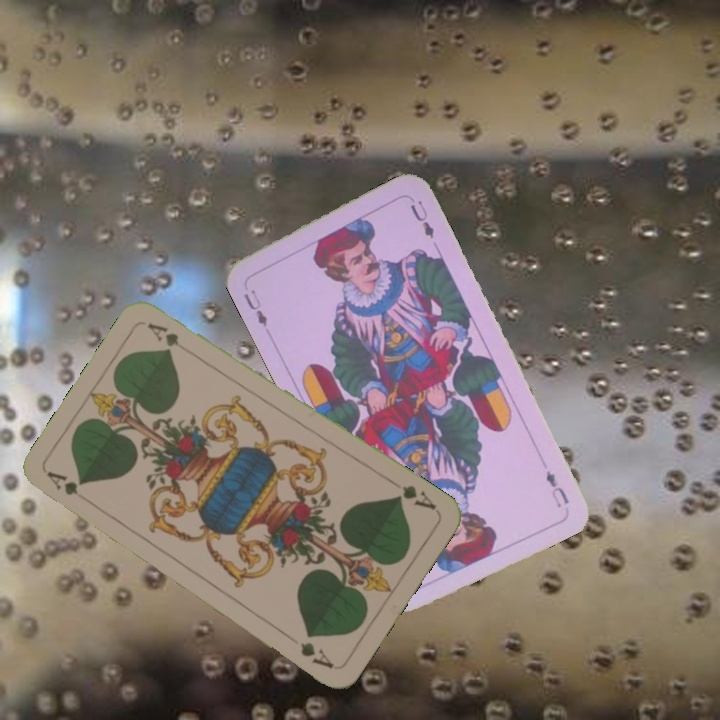EU: (239, 285, 270, 330), (541, 466, 572, 510)
GA: (386, 476, 440, 513), (43, 467, 81, 498)
